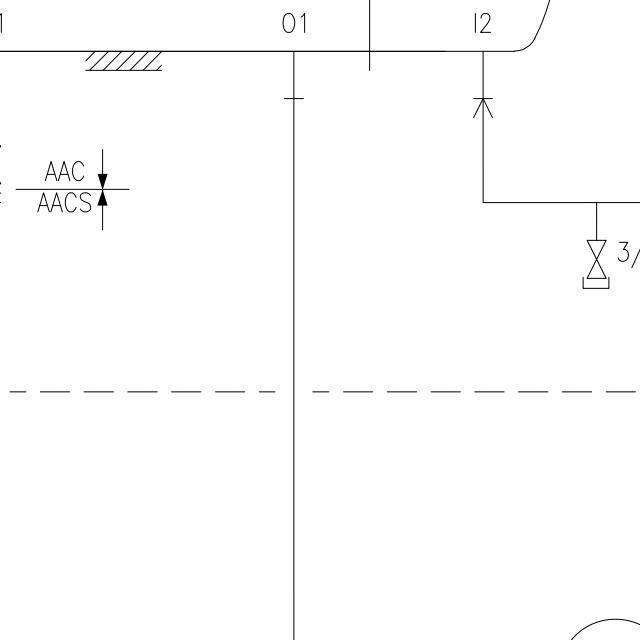EC: (578, 212, 614, 296)
GV: (585, 237, 609, 281)
